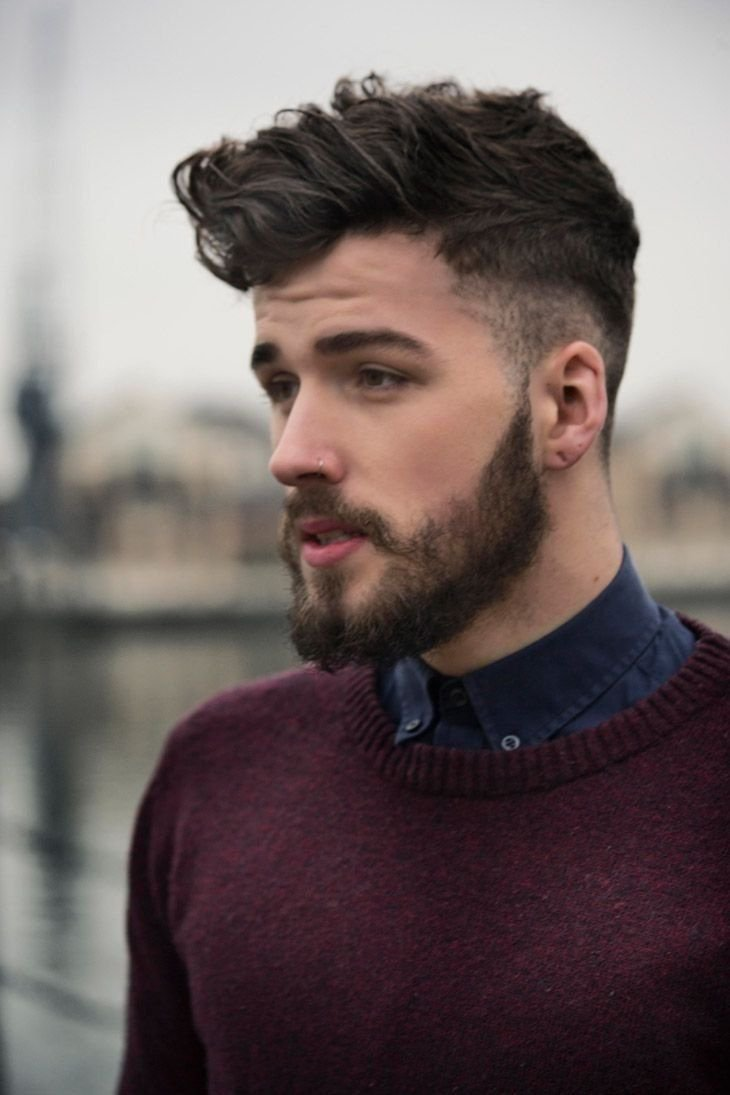noMask: (146, 83, 671, 697)
